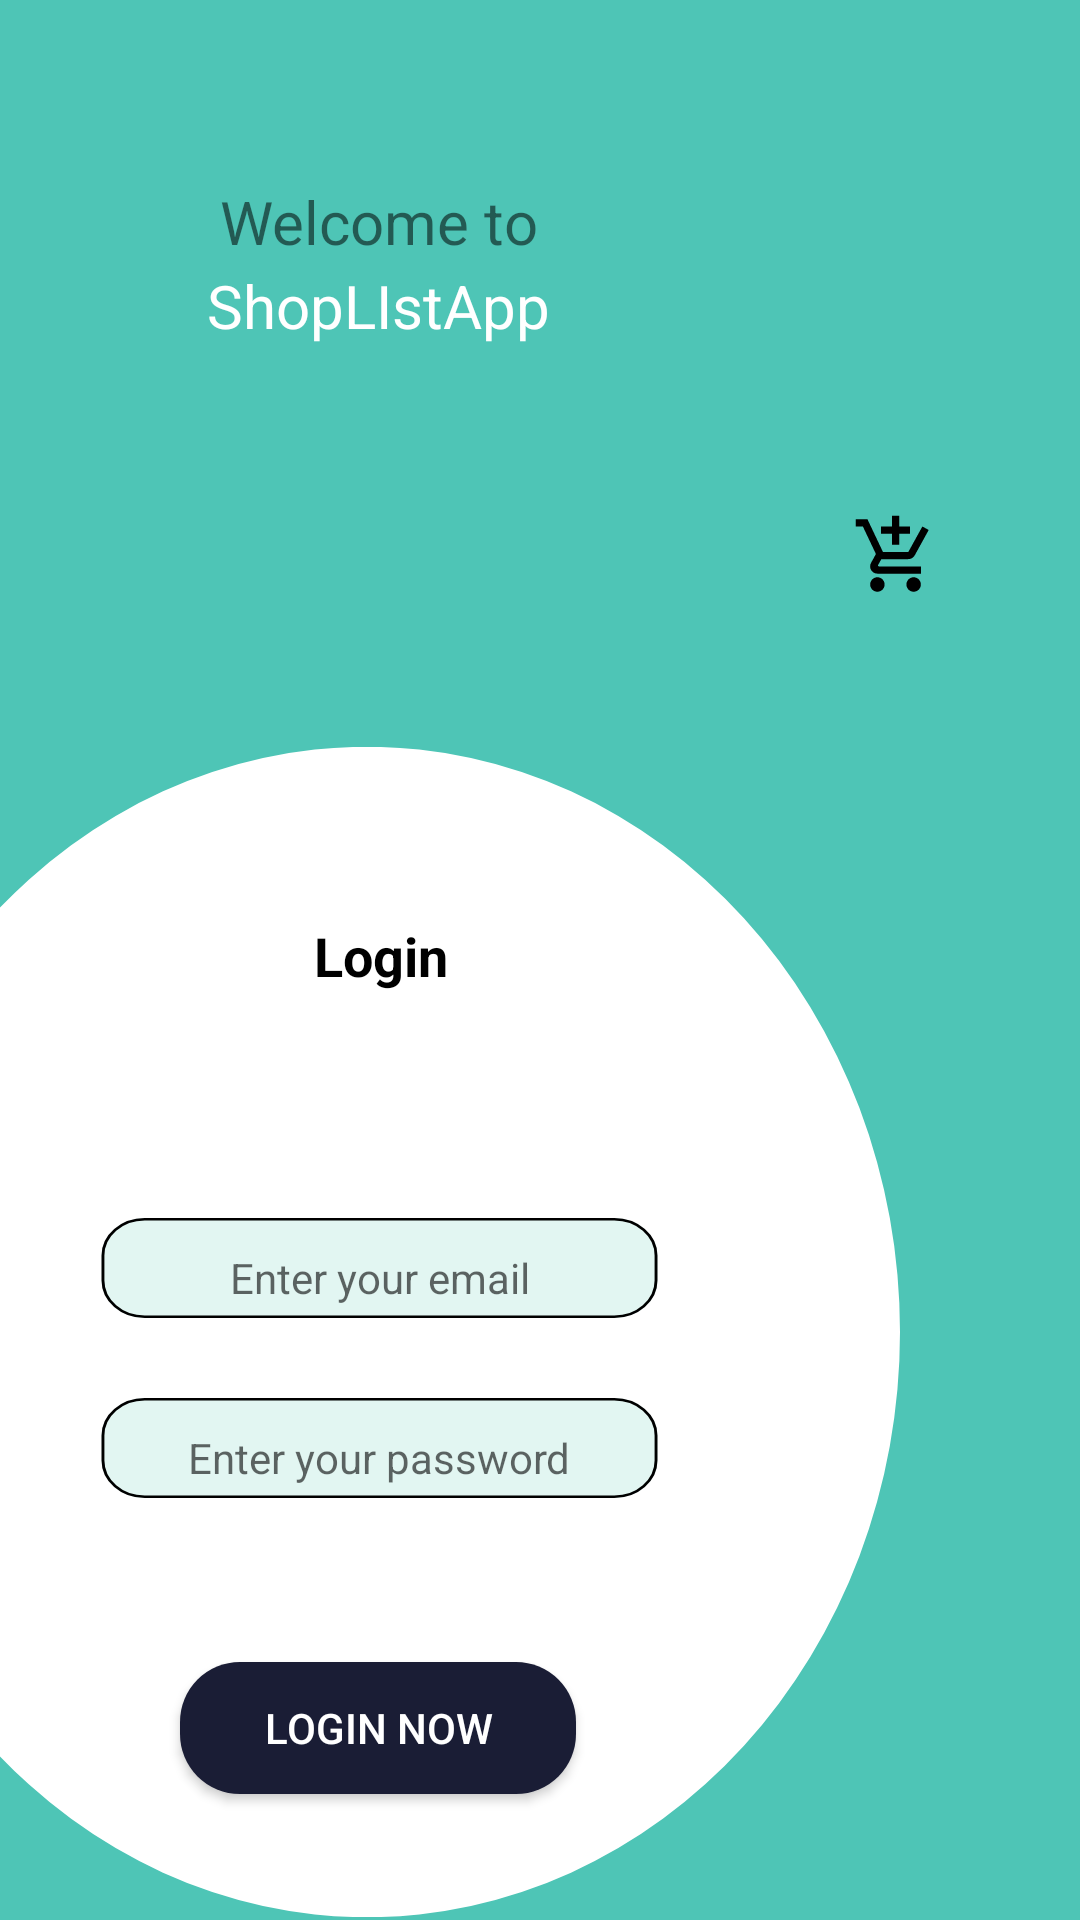

Icons on this 1080px x 1920px Android screen, each with its box as {"x1": x1, "y1": y1, "x2": x2, "y2": y2}:
add shopping cart: {"x1": 855, "y1": 515, "x2": 929, "y2": 592}
